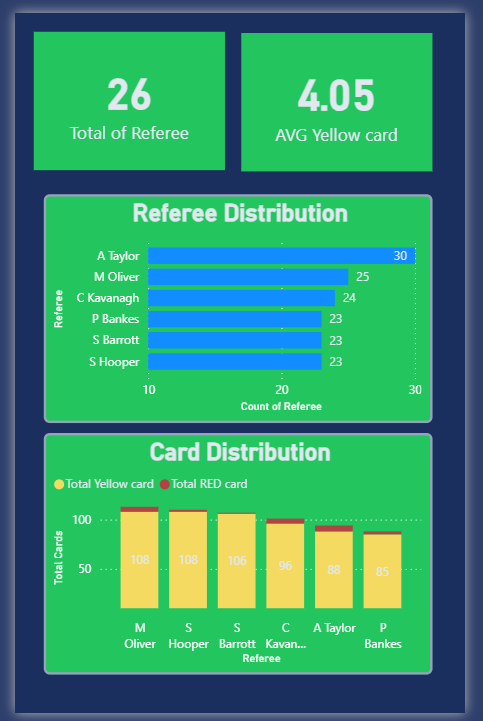

This screenshot's page, from the dashboard's own definition file:
{"tool":"powerbi","page":{"name":"Page 2","canvas":[450,700],"ordinal":1},"visuals":[{"type":"card","fields":{"Values":["Count(E0_analusis.Referee)"]},"box":[18.6,18.6,191.4,138.6],"z":0},{"type":"clusteredBarChart","title":"Referee Distribution","fields":{"Category":["E0_analusis.Referee"],"Y":["CountNonNull(E0_analusis.Referee)"]},"box":[28.6,181.4,388.6,228.6],"z":1000},{"type":"card","fields":{"Values":["E0_analusis.AVG red card"]},"box":[225.7,20,191.4,138.6],"z":2000},{"type":"columnChart","title":"Card Distribution","fields":{"Category":["E0_analusis.Referee"],"Y":["E0_analusis.Total Yellow card","E0_analusis.Total RED card"]},"box":[28.6,420,388.6,241.4],"z":3000}]}

Visuals, with their boxes on the page's 450x700 design canvas (x1, y1, x2, y2). These are canvas units, not pixel positions in the 483x721 screenshot, which may show the page scaled, cropped or inside an application window:
card - Count(E0_analusis.Referee): l=19, t=19, r=210, b=157
"Referee Distribution" clusteredBarChart: l=29, t=181, r=417, b=410
card - E0_analusis.AVG red card: l=226, t=20, r=417, b=159
"Card Distribution" columnChart: l=29, t=420, r=417, b=661
